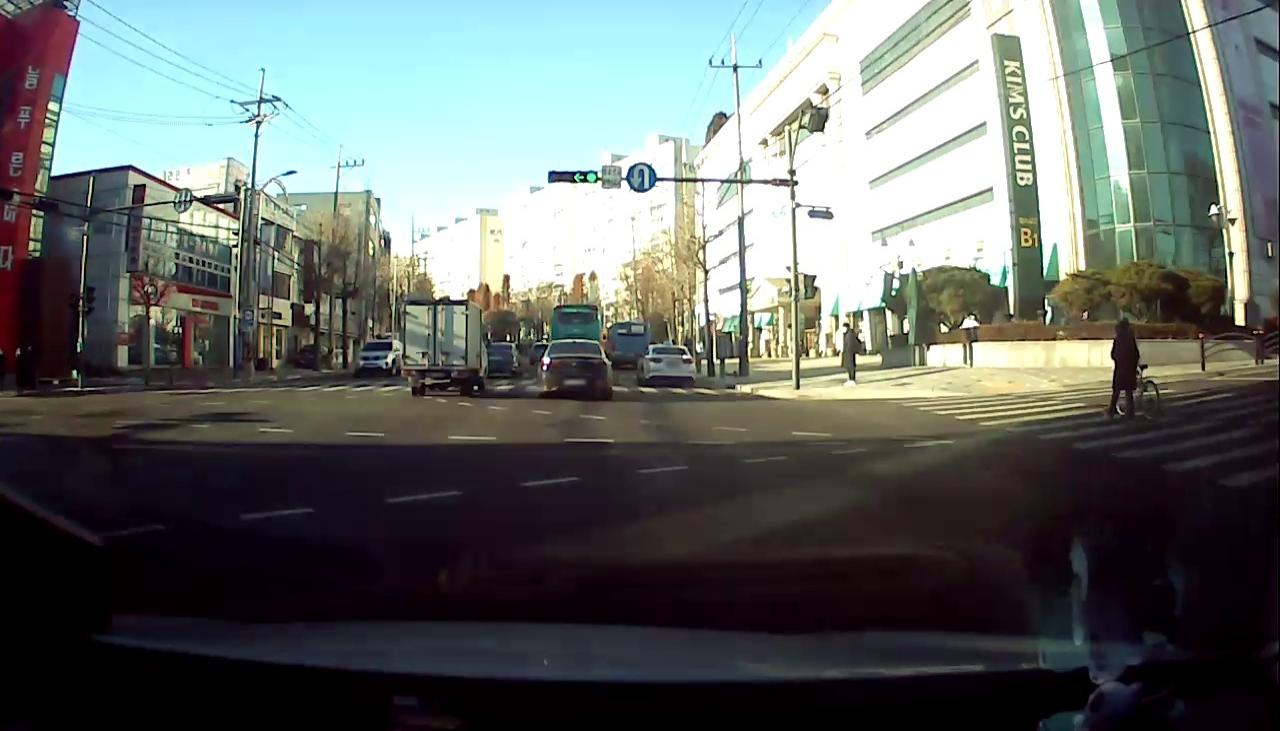Green Light: (584, 170, 598, 184)
Left turn: (572, 169, 584, 185)
